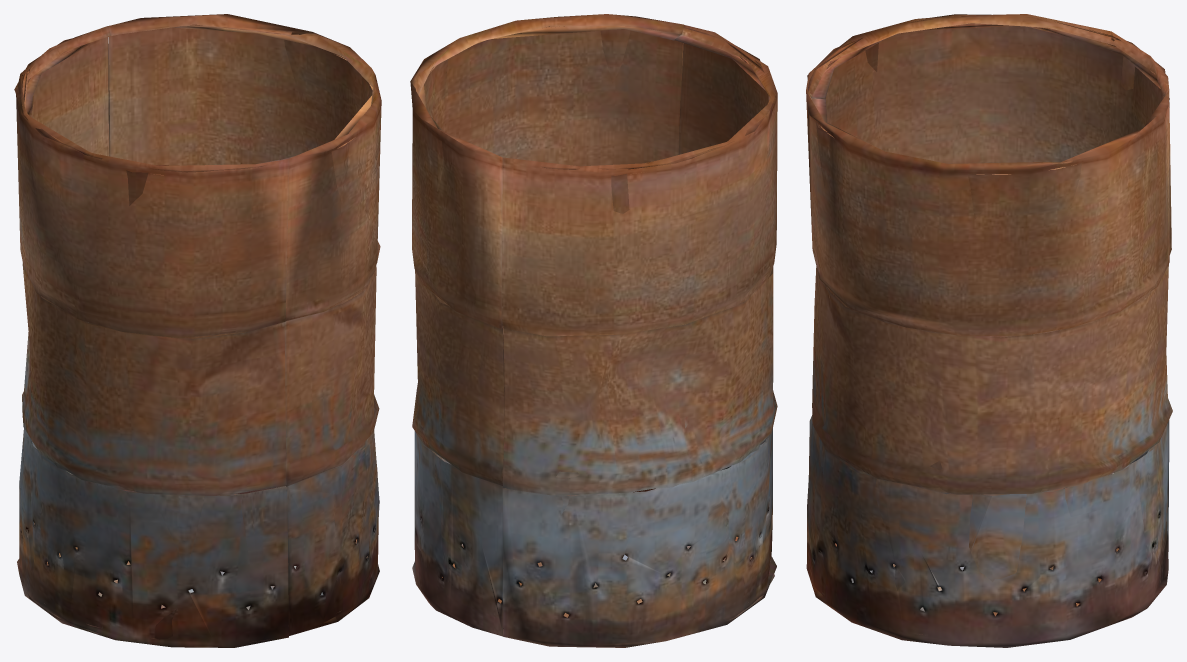
File: barrel_rusty.glb
3 renders of one model, left to right at view 1: azimuth 30°, elevation 25°; view 2: azimuth 150°, elevation 25°; view 3: azimuth 270°, elevation 25°, orthographic.
Parts seen in each view (by area): view 1: barrel_rusty; view 2: barrel_rusty; view 3: barrel_rusty.
Boxes of the visible parts, x1,y1,x2,y2 form: barrel_rusty: [14, 14, 381, 647]; barrel_rusty: [410, 14, 777, 647]; barrel_rusty: [806, 14, 1172, 647].
Bounding box in the file's own units: 0.5935 × 0.8578 × 0.5894.
Materials: 1 (1 with a texture image).
